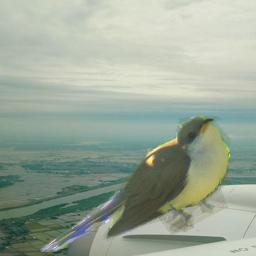Cuckoo: (38, 116, 230, 252)
